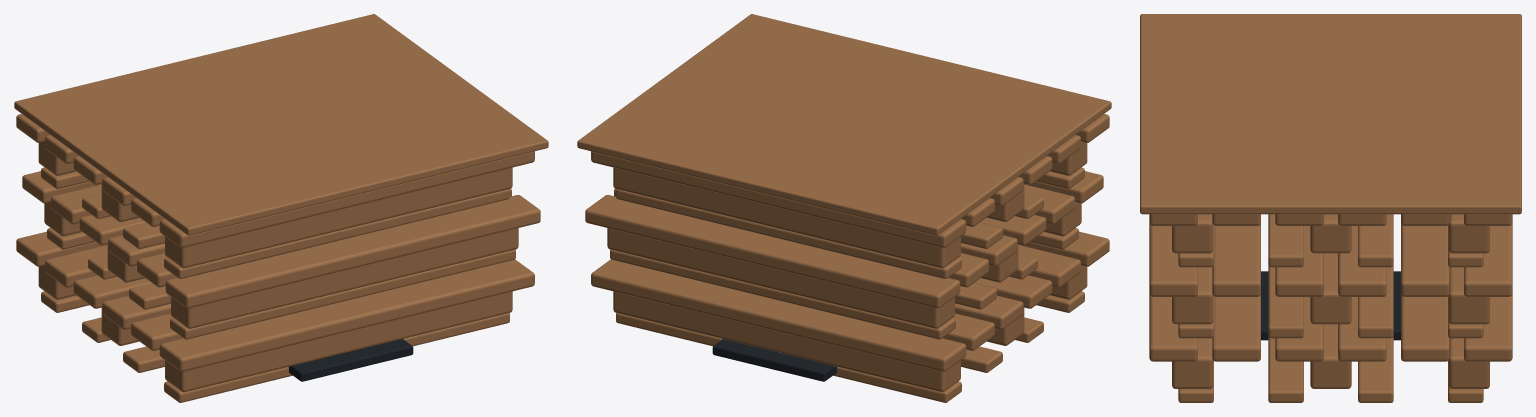
The model's file is prop_starter_pallet_stack_a_v01.glb.
3 renders of one model, left to right at view 1: azimuth 30°, elevation 25°; view 2: azimuth 150°, elevation 25°; view 3: azimuth 270°, elevation 25°, orthographic. The views are drawn at different scales.
Parts seen in each view (by area): view 1: component__stack_offsets__stack_offset_marker, component__top_deck_boards__top_deck_board.001, component__top_deck_boards__top_deck_board.007, component__stringers__stringer.007, component__stringers__stringer.004, component__stringers__stringer.001, component__top_deck_boards__top_deck_board.013, component__bottom_deck_boards__bottom_deck_board.004, component__bottom_deck_boards__bottom_deck_board.008, component__bottom_deck_boards__bottom_deck_board, component__spacing_gaps__fork_spacing_marker, component__top_deck_boards__top_deck_board.004 (+26 smaller); view 2: component__stack_offsets__stack_offset_marker, component__top_deck_boards__top_deck_board.006, component__top_deck_boards__top_deck_board.012, component__stringers__stringer, component__stringers__stringer.006, component__stringers__stringer.003, component__top_deck_boards__top_deck_board, component__bottom_deck_boards__bottom_deck_board.007, component__bottom_deck_boards__bottom_deck_board.011, component__bottom_deck_boards__bottom_deck_board.003, component__spacing_gaps__fork_spacing_marker, component__top_deck_boards__top_deck_board.003 (+26 smaller); view 3: component__stack_offsets__stack_offset_marker, component__top_deck_boards__top_deck_board.008, component__top_deck_boards__top_deck_board.011, component__top_deck_boards__top_deck_board.002, component__top_deck_boards__top_deck_board.005, component__top_deck_boards__top_deck_board.007, component__top_deck_boards__top_deck_board.012, component__top_deck_boards__top_deck_board.001, component__top_deck_boards__top_deck_board.006, component__top_deck_boards__top_deck_board.009, component__top_deck_boards__top_deck_board.010, component__stringers__stringer.005 (+29 smaller).
Boxes of the visible parts, left/top/right/bottom form: component__stack_offsets__stack_offset_marker: left=14, top=14, right=548, bottom=235; component__top_deck_boards__top_deck_board.001: left=159, top=259, right=534, bottom=371; component__top_deck_boards__top_deck_board.007: left=165, top=195, right=540, bottom=308; component__stringers__stringer.007: left=165, top=167, right=512, bottom=268; component__stringers__stringer.004: left=171, top=228, right=518, bottom=328; component__stringers__stringer.001: left=165, top=291, right=512, bottom=392; component__top_deck_boards__top_deck_board.013: left=159, top=151, right=534, bottom=247; component__bottom_deck_boards__bottom_deck_board.004: left=170, top=249, right=515, bottom=339; component__bottom_deck_boards__bottom_deck_board.008: left=164, top=189, right=509, bottom=278; component__bottom_deck_boards__bottom_deck_board: left=164, top=313, right=509, bottom=402; component__spacing_gaps__fork_spacing_marker: left=288, top=339, right=413, bottom=381; component__top_deck_boards__top_deck_board.004: left=73, top=275, right=151, bottom=308; component__stack_offsets__stack_offset_marker: left=577, top=14, right=1111, bottom=235; component__top_deck_boards__top_deck_board.006: left=591, top=259, right=966, bottom=371; component__top_deck_boards__top_deck_board.012: left=585, top=195, right=960, bottom=308; component__stringers__stringer: left=613, top=167, right=960, bottom=268; component__stringers__stringer.006: left=607, top=228, right=954, bottom=328; component__stringers__stringer.003: left=613, top=291, right=960, bottom=392; component__top_deck_boards__top_deck_board: left=591, top=151, right=966, bottom=247; component__bottom_deck_boards__bottom_deck_board.007: left=610, top=249, right=955, bottom=339; component__bottom_deck_boards__bottom_deck_board.011: left=616, top=189, right=961, bottom=278; component__bottom_deck_boards__bottom_deck_board.003: left=616, top=313, right=961, bottom=402; component__spacing_gaps__fork_spacing_marker: left=712, top=339, right=837, bottom=381; component__top_deck_boards__top_deck_board.003: left=974, top=275, right=1052, bottom=308; component__stack_offsets__stack_offset_marker: left=1140, top=14, right=1521, bottom=214; component__top_deck_boards__top_deck_board.008: left=1212, top=223, right=1260, bottom=296; component__top_deck_boards__top_deck_board.011: left=1401, top=223, right=1449, bottom=296; component__top_deck_boards__top_deck_board.002: left=1212, top=294, right=1260, bottom=361; component__top_deck_boards__top_deck_board.005: left=1401, top=294, right=1449, bottom=361; component__top_deck_boards__top_deck_board.007: left=1149, top=223, right=1197, bottom=296; component__top_deck_boards__top_deck_board.012: left=1464, top=223, right=1512, bottom=296; component__top_deck_boards__top_deck_board.001: left=1149, top=294, right=1197, bottom=361; component__top_deck_boards__top_deck_board.006: left=1464, top=294, right=1512, bottom=361; component__top_deck_boards__top_deck_board.009: left=1275, top=226, right=1323, bottom=296; component__top_deck_boards__top_deck_board.010: left=1338, top=226, right=1386, bottom=296; component__stringers__stringer.005: left=1310, top=253, right=1351, bottom=324.
Bounding box in the file's own units: 1.23 × 0.615 × 1.02.
